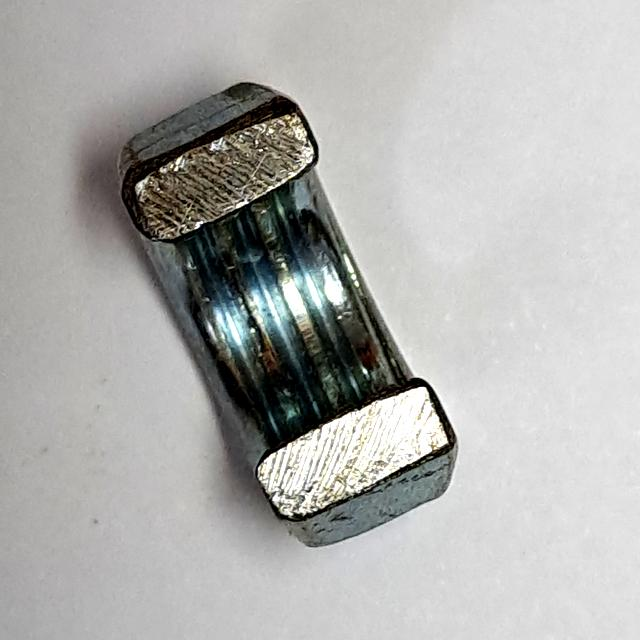Side-Fracture: (100, 60, 478, 569)
